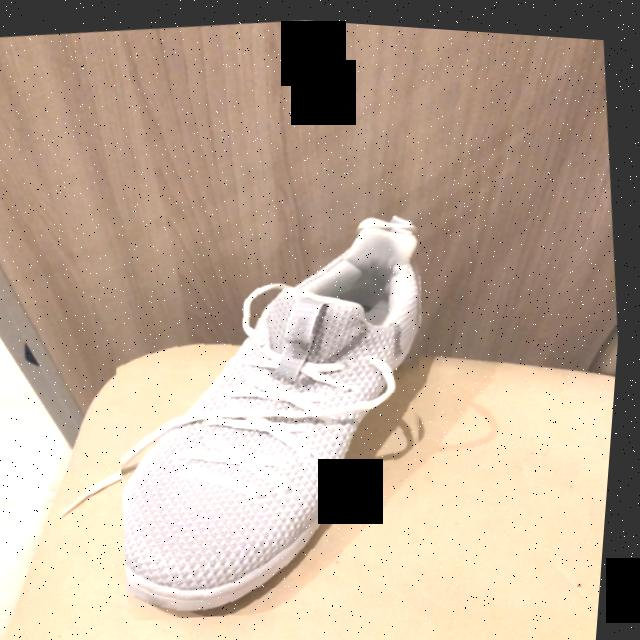shoe: (130, 221, 424, 614)
